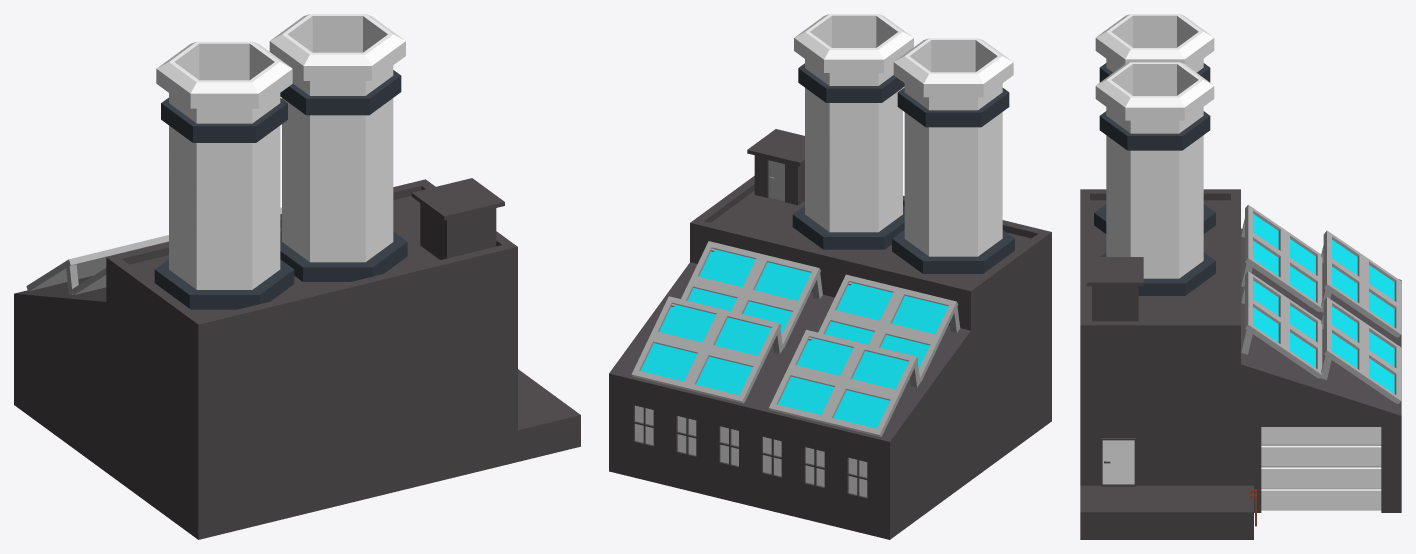
The model's file is Factory.fbx.
The picture shows the model from 3 angles, left to right: view 1: azimuth 30°, elevation 25°; view 2: azimuth 150°, elevation 25°; view 3: azimuth 270°, elevation 25°; orthographic projection. The views are drawn at different scales.
Parts seen in each view (by area): view 1: Factory; view 2: Factory; view 3: Factory.
Part boxes in pixels (x1,y1,x2,y2): Factory: (14,14,580,539); Factory: (609,14,1051,539); Factory: (1080,14,1401,539).
Bounding box in the file's own units: 719 × 772 × 600.
